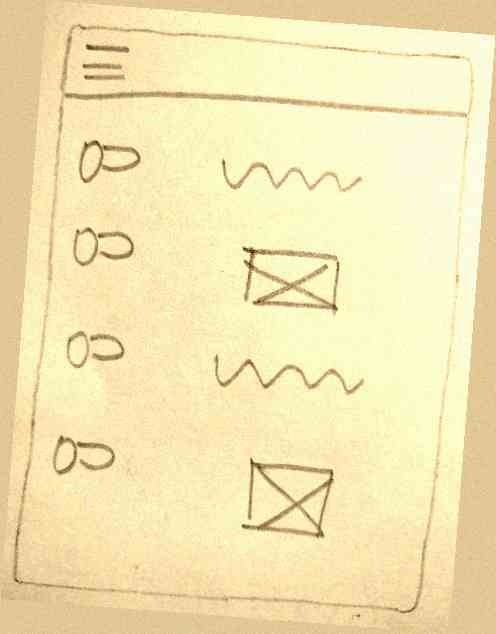image: (234, 232, 345, 321), (229, 452, 340, 541)
switch: (72, 133, 148, 191), (65, 215, 142, 272), (57, 322, 134, 379), (45, 430, 121, 487)
text: (213, 150, 376, 210), (204, 346, 367, 406)
